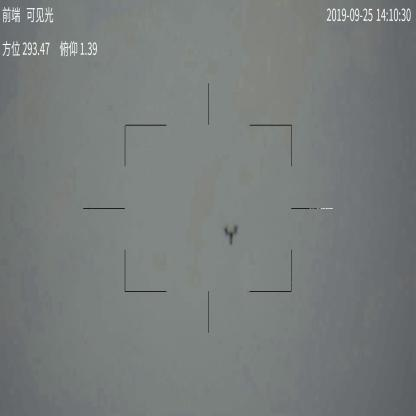uav: (222, 223, 240, 247)
